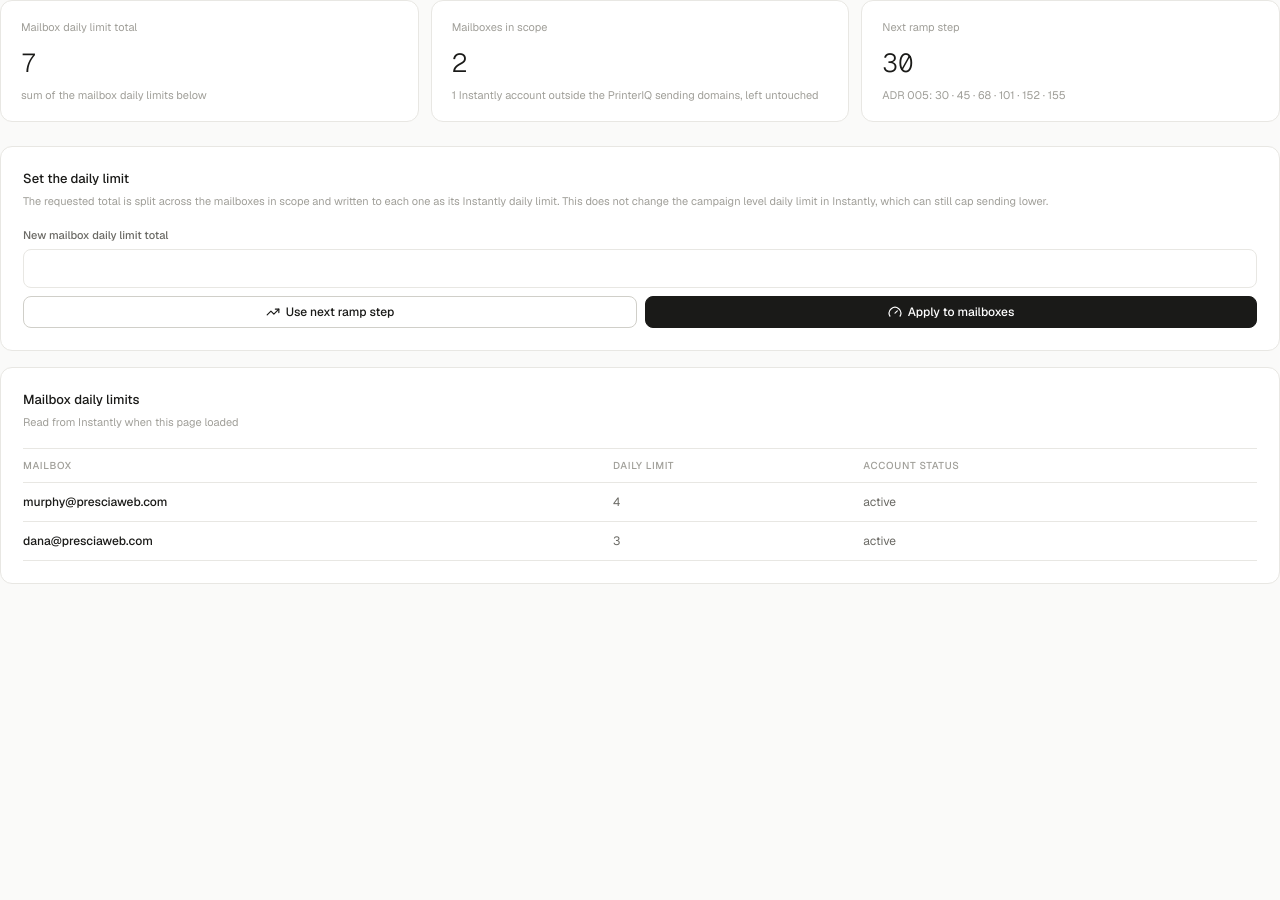
Test: SendRateControl › reports per mailbox failures instead of a bare success message
Step 1. Type "30" into the number field labelled "New mailbox daily limit total" → (640, 268), box left=23, top=248, right=1257, bottom=288
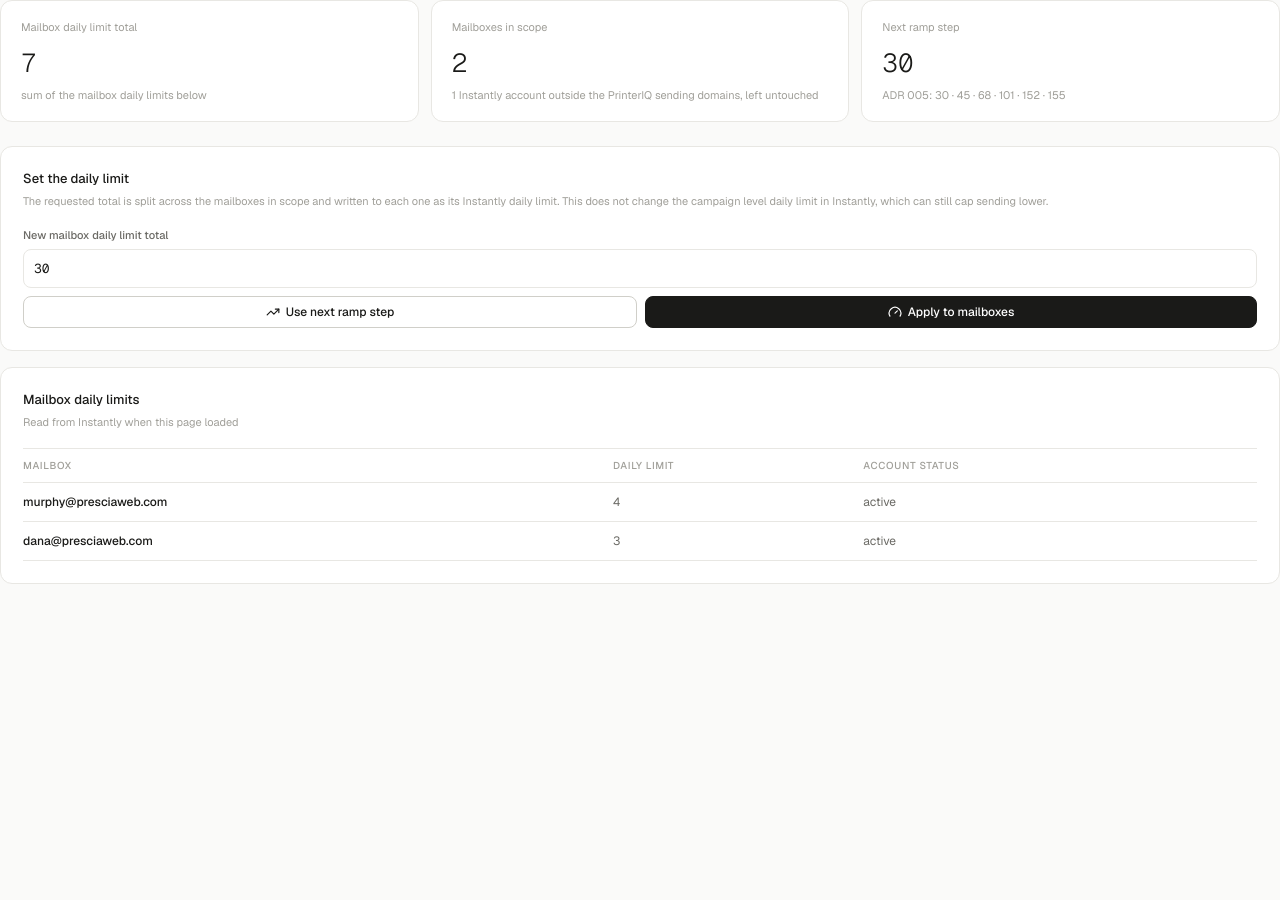
Step 2. Click the button "Apply to mailboxes" → (951, 312), box left=645, top=296, right=1257, bottom=328
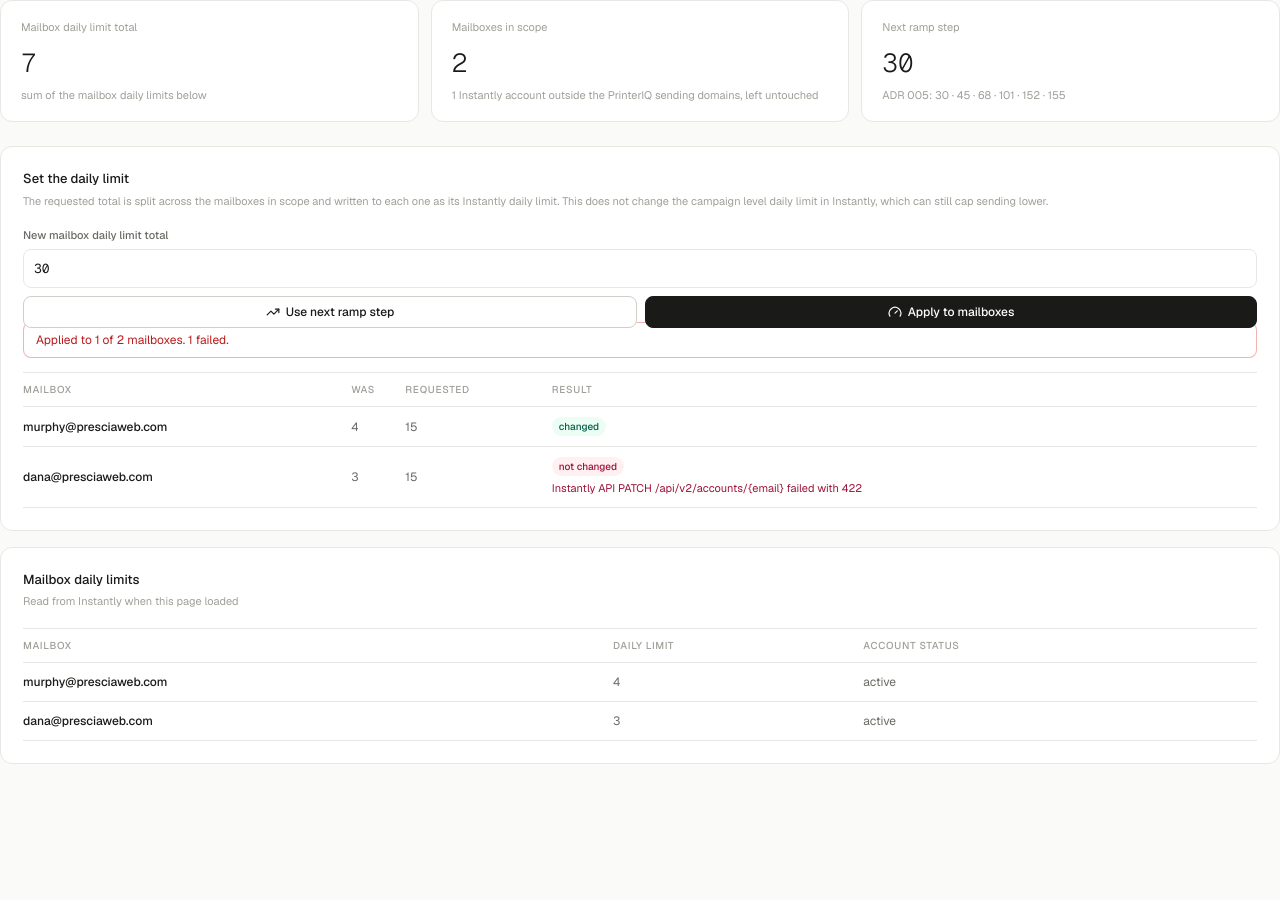
Now the text "Applied to 1 of 2 mailboxes. 1 failed." is shown, box left=23, top=322, right=1257, bottom=358
Now the row "dana@presciaweb.com" shows "422", box left=552, top=481, right=862, bottom=495
Now the row "dana@presciaweb.com" shows "not changed", box left=559, top=460, right=617, bottom=473
